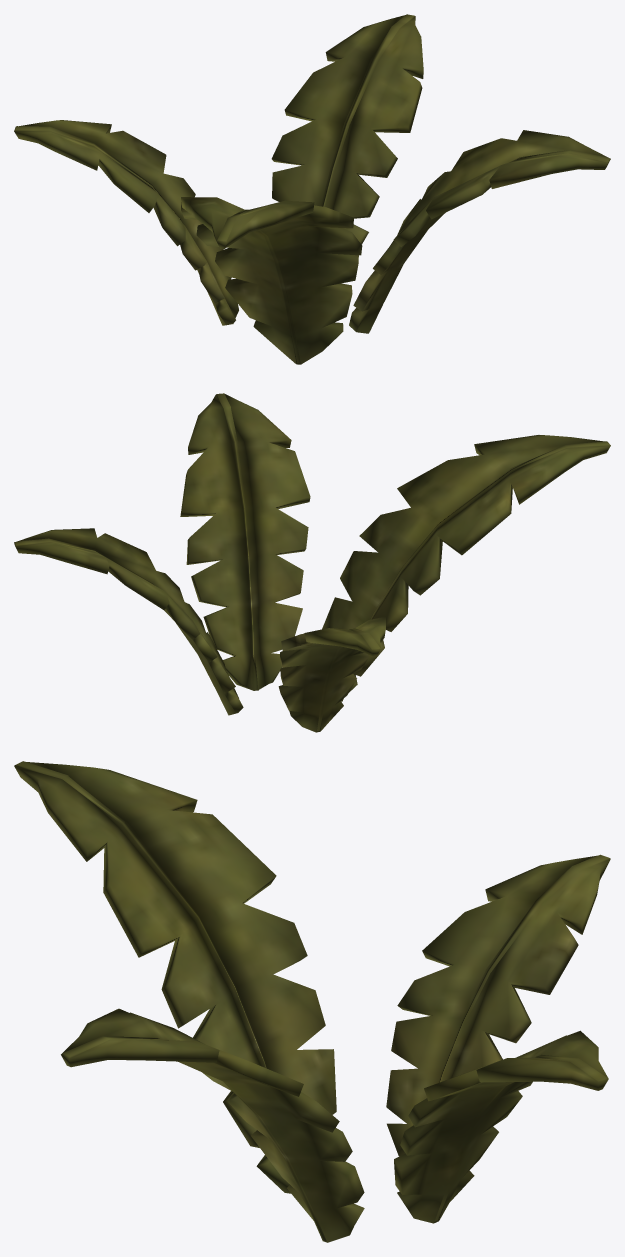
Rendered from grass_3_small.fbx.
3 views of the same model, one above another, from view 1: azimuth 30°, elevation 25°; view 2: azimuth 150°, elevation 25°; view 3: azimuth 270°, elevation 25° (orthographic). The views are drawn at different scales.
Parts seen in each view (by area): view 1: grass_3_small; view 2: grass_3_small; view 3: grass_3_small.
Part boxes in pixels (bbox=[...]): grass_3_small: bbox=[14, 14, 610, 364]; grass_3_small: bbox=[14, 393, 610, 732]; grass_3_small: bbox=[14, 761, 610, 1242].
Size of the model in its own units: 127 by 72.42 by 121.
